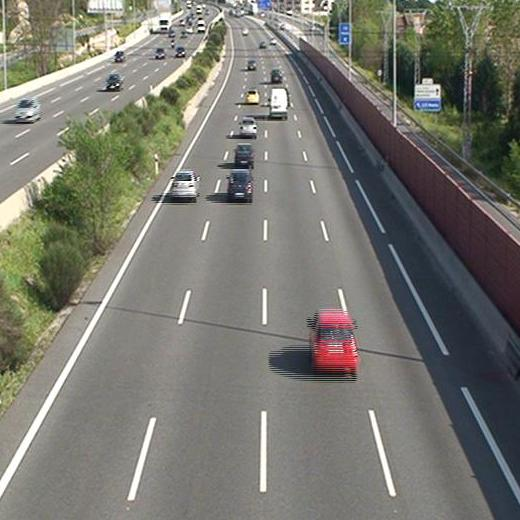car: (310, 310, 358, 371), (171, 173, 199, 198), (228, 171, 252, 199), (235, 145, 253, 162), (240, 119, 256, 135), (245, 90, 259, 103), (271, 68, 282, 82), (247, 60, 256, 70)
van: (270, 90, 287, 118)
